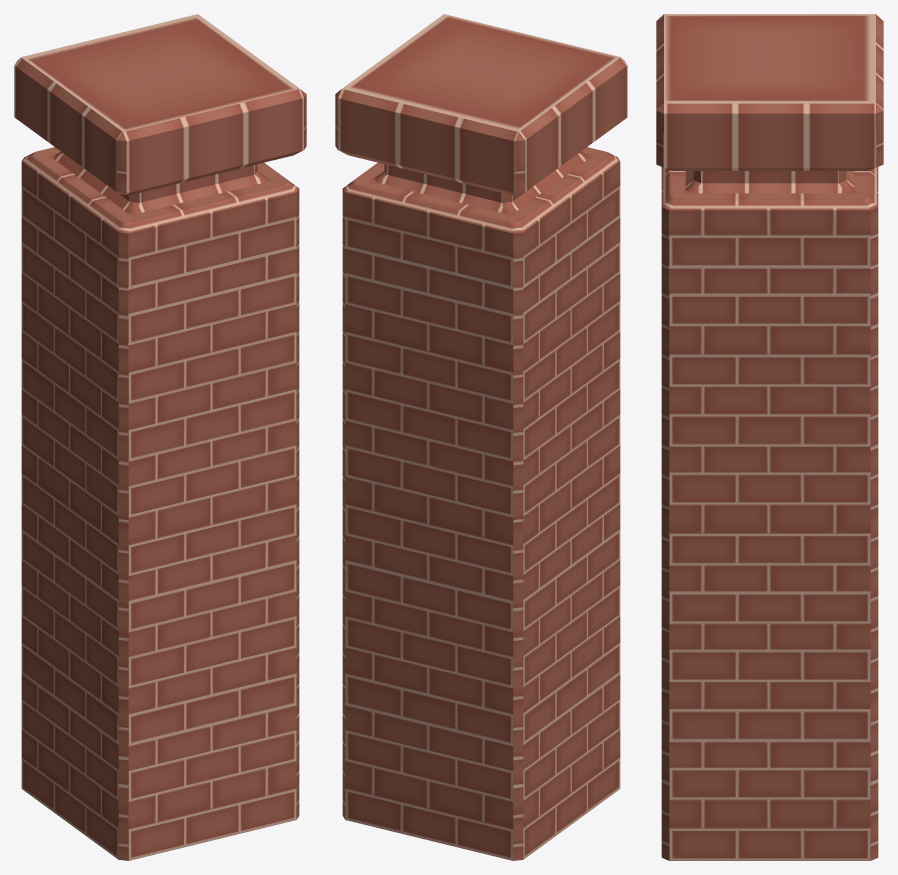
Rendered from schoolfence_single.fbx.
3 views of the same model, side by side, from view 1: azimuth 30°, elevation 25°; view 2: azimuth 150°, elevation 25°; view 3: azimuth 270°, elevation 25° (orthographic). The views are drawn at different scales.
Parts seen in each view (by area): view 1: fence_single; view 2: fence_single; view 3: fence_single.
Part boxes in pixels (x1,y1,x2,y2): fence_single: (14,14,306,860); fence_single: (335,14,627,860); fence_single: (656,14,883,860).
Size of the model in its own units: 1.28 by 4.71 by 1.28.
1 material, 1 textured.
